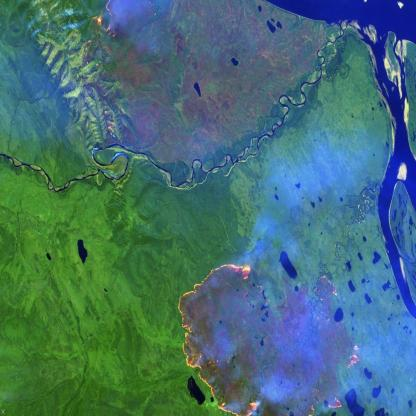fire: (172, 252, 360, 416), (86, 2, 117, 50)
